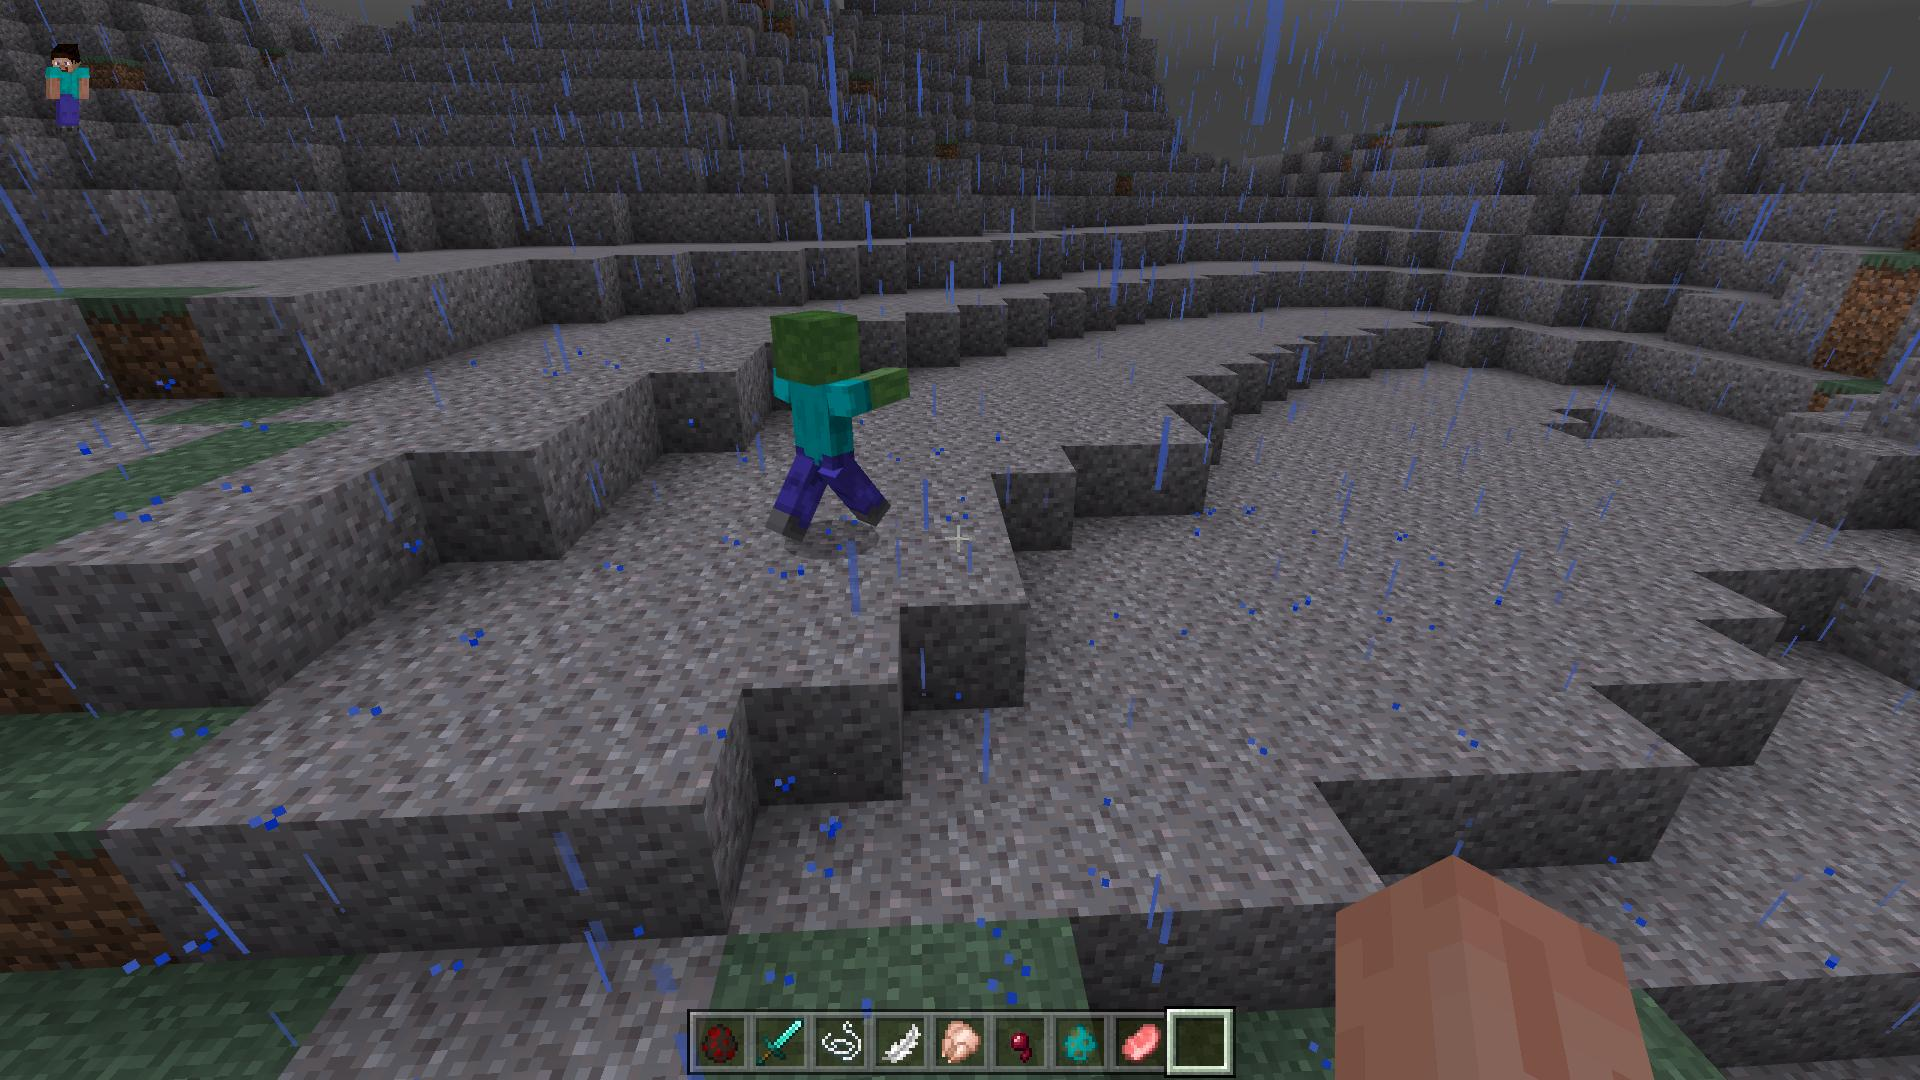zombie: (764, 309, 907, 543)
